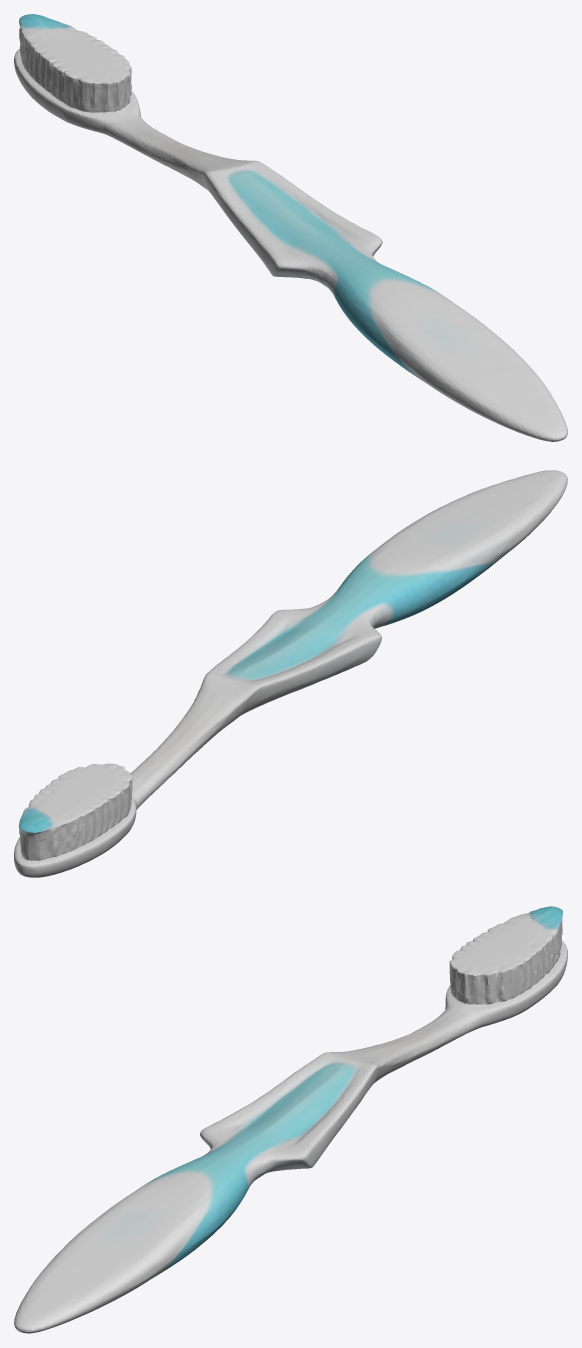
The model's file is obj2_sam3d_obb.glb.
The picture shows the model from 3 angles, top to bottom: view 1: azimuth 30°, elevation 25°; view 2: azimuth 150°, elevation 25°; view 3: azimuth 330°, elevation 25°; orthographic projection.
Parts seen in each view (by area): view 1: world; view 2: world; view 3: world.
Boxes of the visible parts, bbox=[...] form: world: bbox=[14, 14, 567, 441]; world: bbox=[14, 470, 567, 877]; world: bbox=[14, 906, 567, 1333].
Size of the model in its own units: 0.0171 by 0.008 by 0.15.
